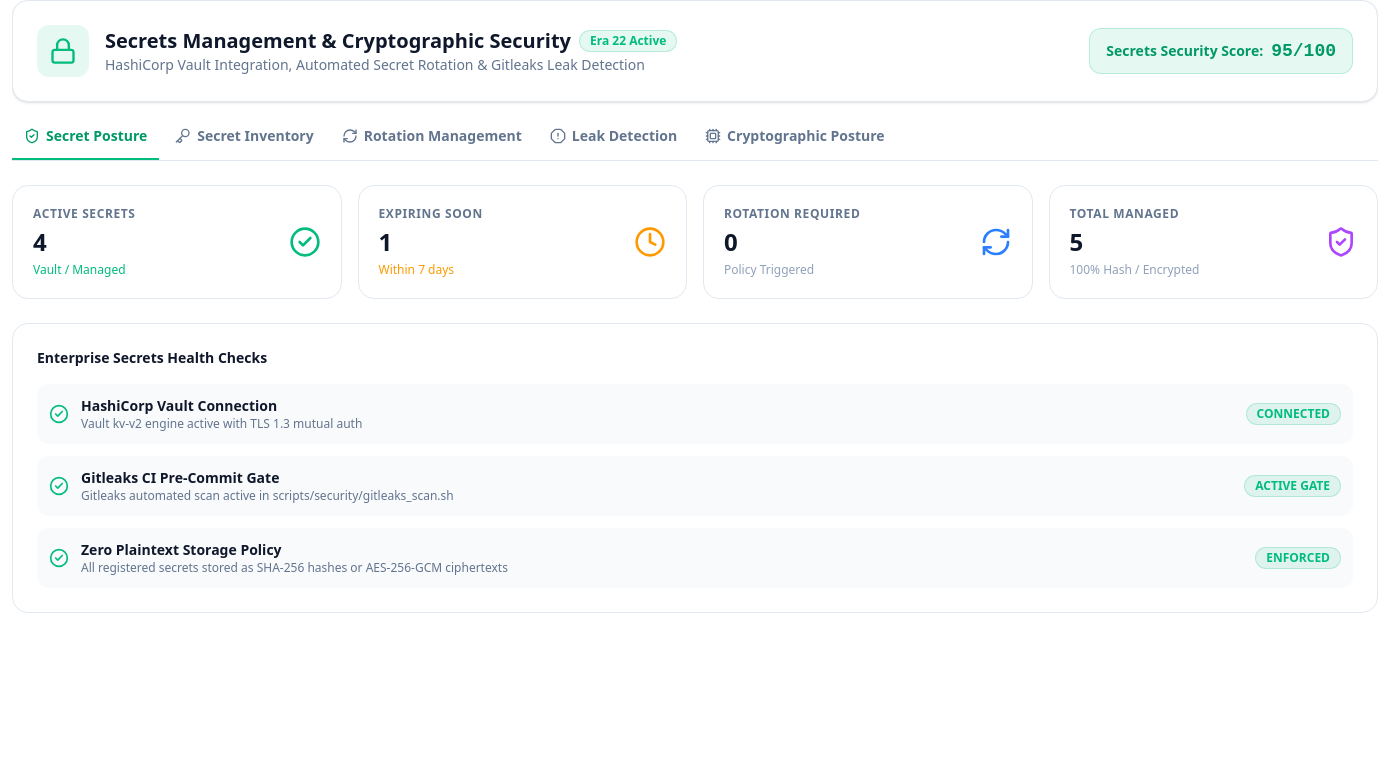
SecretsSecurityDashboard › clicking Leak Detection tab shows leak findings
The width and height of the screenshot is (1378, 768).
Click the button "Leak Detection" at {"x": 614, "y": 143}, box [538,126,689,160]
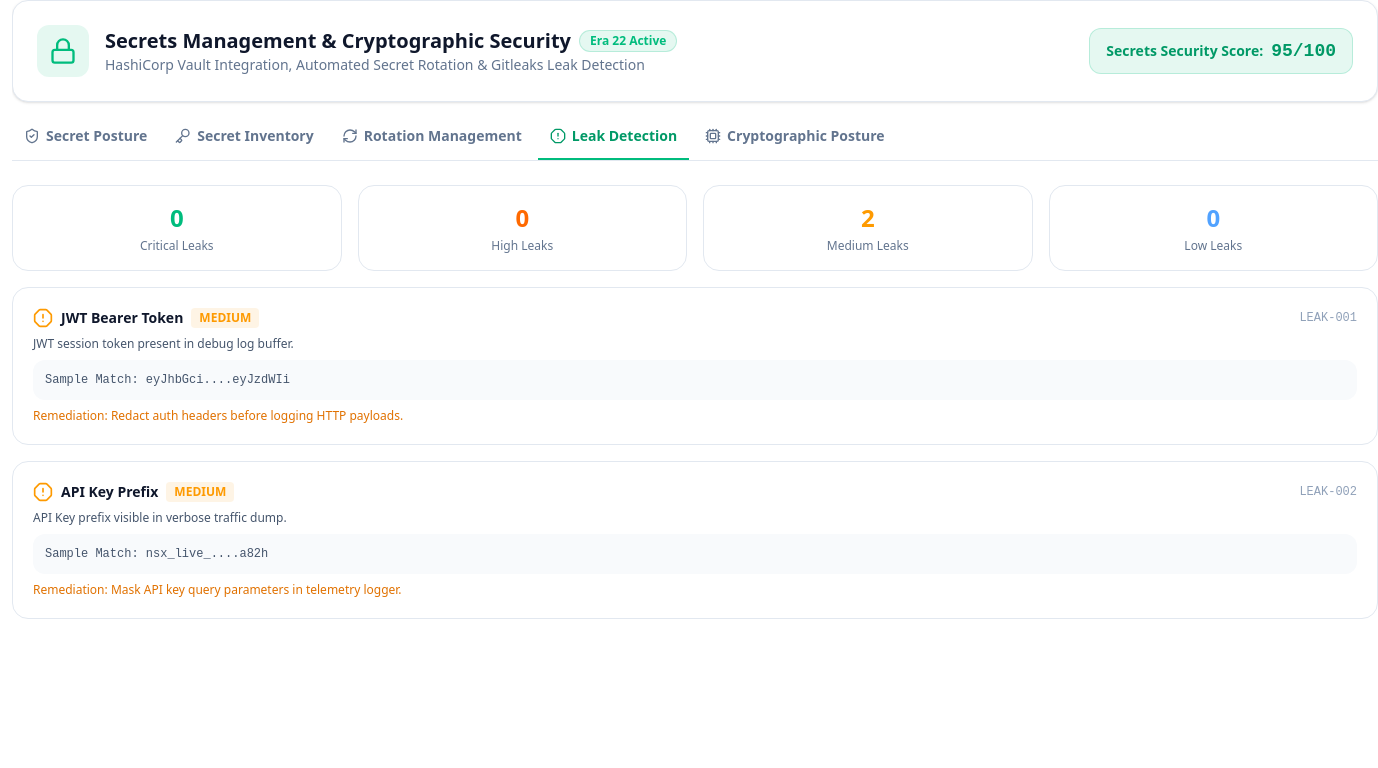
Expected: the text "JWT Bearer Token" is shown, [61,308,183,328]
Expected: the text "API Key Prefix" is shown, [61,482,158,502]
